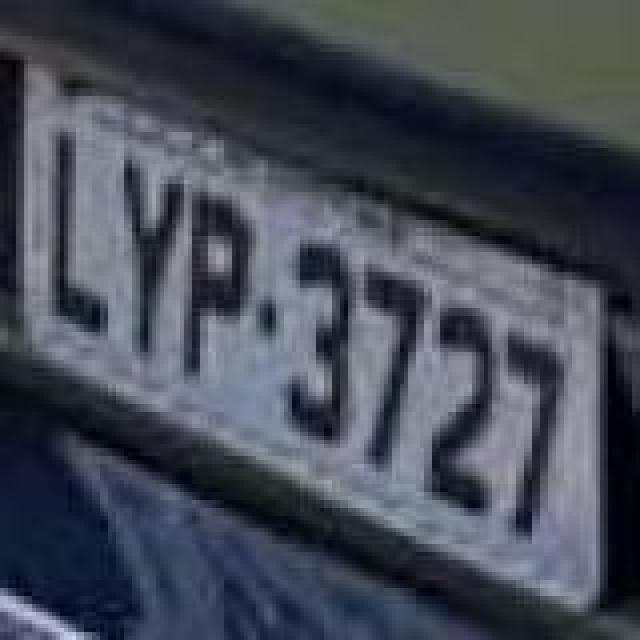2: (426, 302, 502, 522)
3: (282, 242, 358, 446)
7: (354, 270, 430, 466), (500, 332, 564, 548)
L: (46, 132, 114, 340)
P: (180, 192, 252, 384)
Y: (114, 160, 190, 368)
